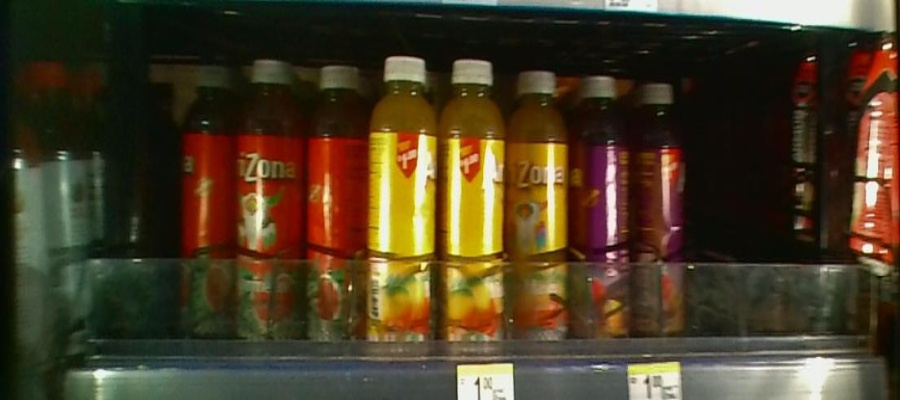bottle: (236, 58, 306, 355), (371, 58, 438, 359), (511, 60, 574, 364), (444, 58, 507, 359), (633, 76, 696, 358), (311, 62, 365, 356), (181, 63, 231, 344), (576, 75, 625, 357)
